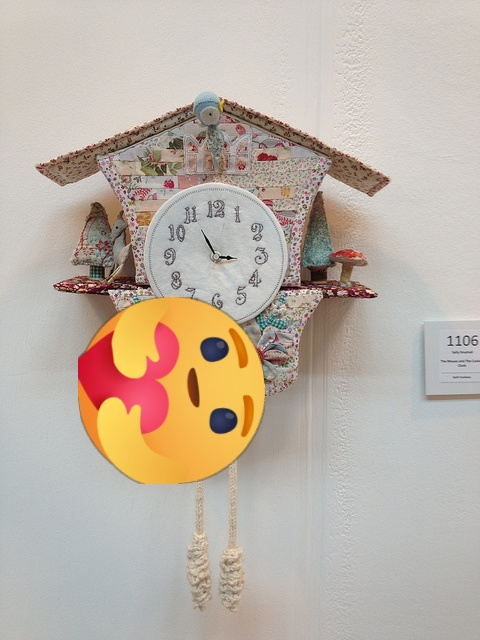care: (78, 297, 265, 484)
